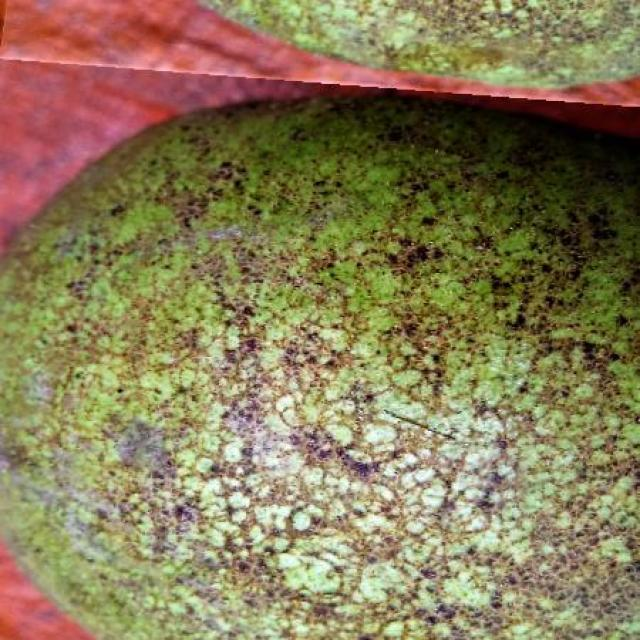Scab: (0, 99, 640, 640)
